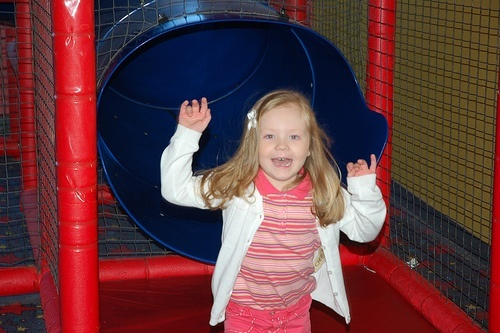head: (256, 93, 312, 179)
person: (157, 89, 389, 329)
